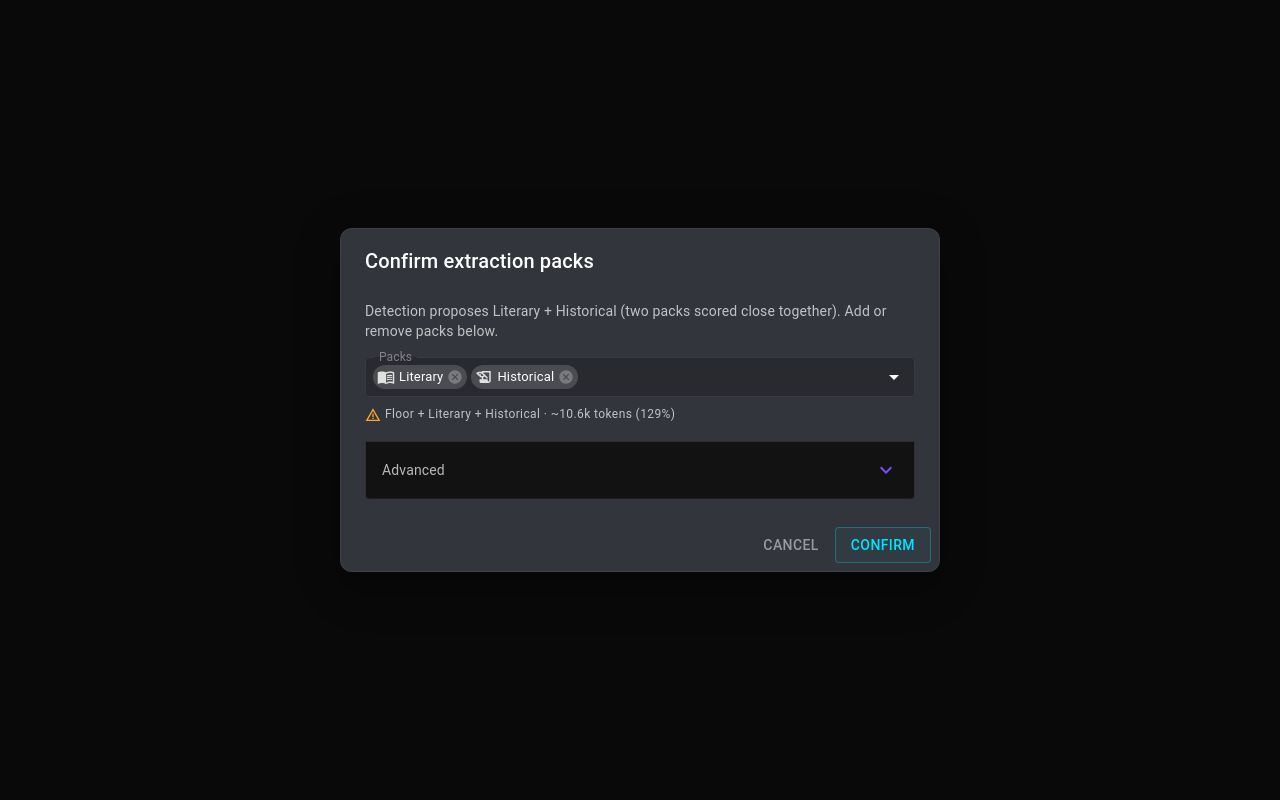
Test: <ConfirmExtractionDialog /> › offers only the options the confirm endpoint accepts
Click the button "Advanced" at (413, 470), box [366,442,914,498]
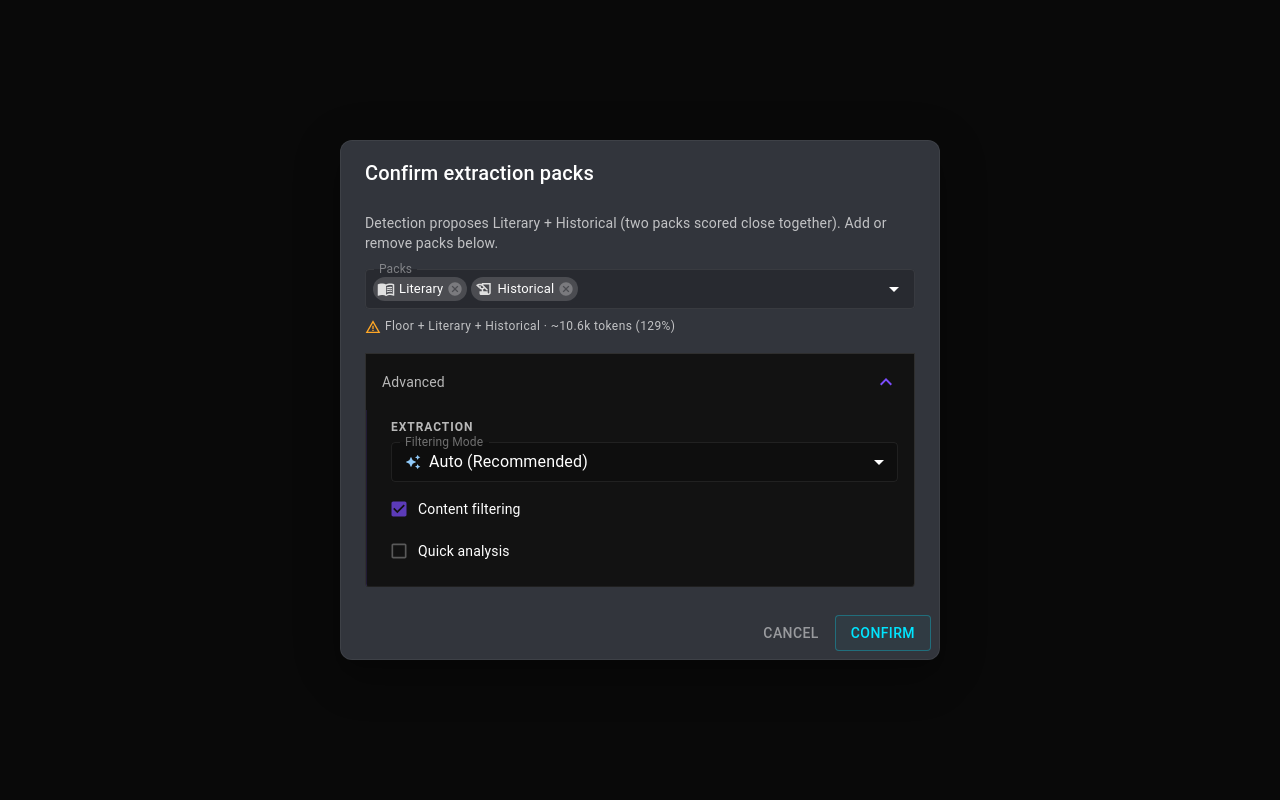
Expected: the checkbox labelled "Quick analysis" is shown, [389,541,510,561]
